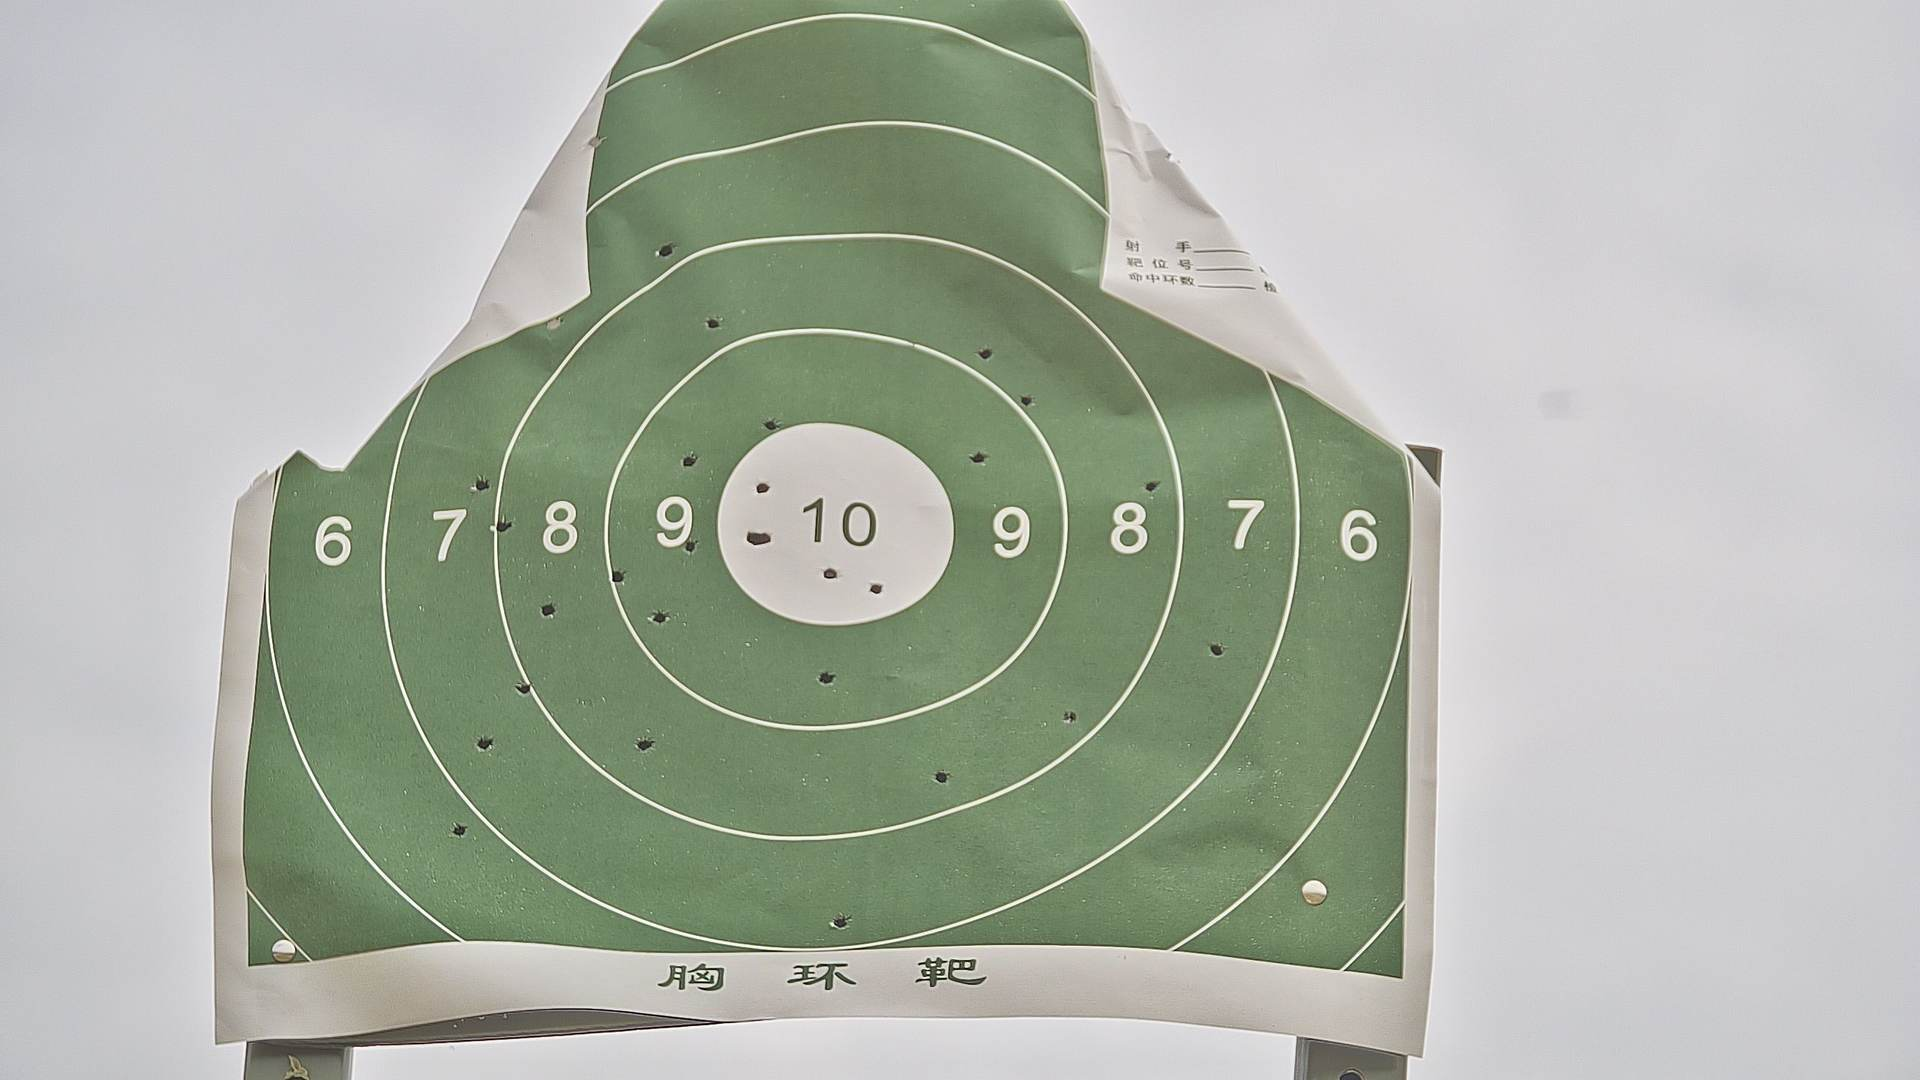hole: (822, 564, 843, 584), (829, 915, 851, 932), (816, 670, 839, 686), (636, 737, 655, 754), (655, 243, 675, 258), (707, 314, 723, 334), (649, 611, 669, 626), (476, 737, 495, 753), (539, 603, 556, 618), (452, 822, 468, 839), (969, 451, 988, 465), (745, 530, 760, 547), (934, 770, 951, 785), (609, 568, 625, 583), (516, 682, 531, 696), (473, 477, 491, 491), (495, 520, 512, 533), (684, 538, 699, 553), (764, 419, 779, 433), (683, 454, 699, 467), (1145, 479, 1160, 492), (589, 135, 607, 146), (760, 531, 771, 549), (1209, 644, 1226, 655), (549, 315, 563, 328), (978, 347, 993, 360), (869, 583, 884, 596), (1062, 709, 1076, 723), (756, 483, 771, 495), (1021, 394, 1033, 406)
kernel: (829, 520, 833, 524)
target: (248, 3, 1402, 976)
ten: (715, 422, 957, 632)
